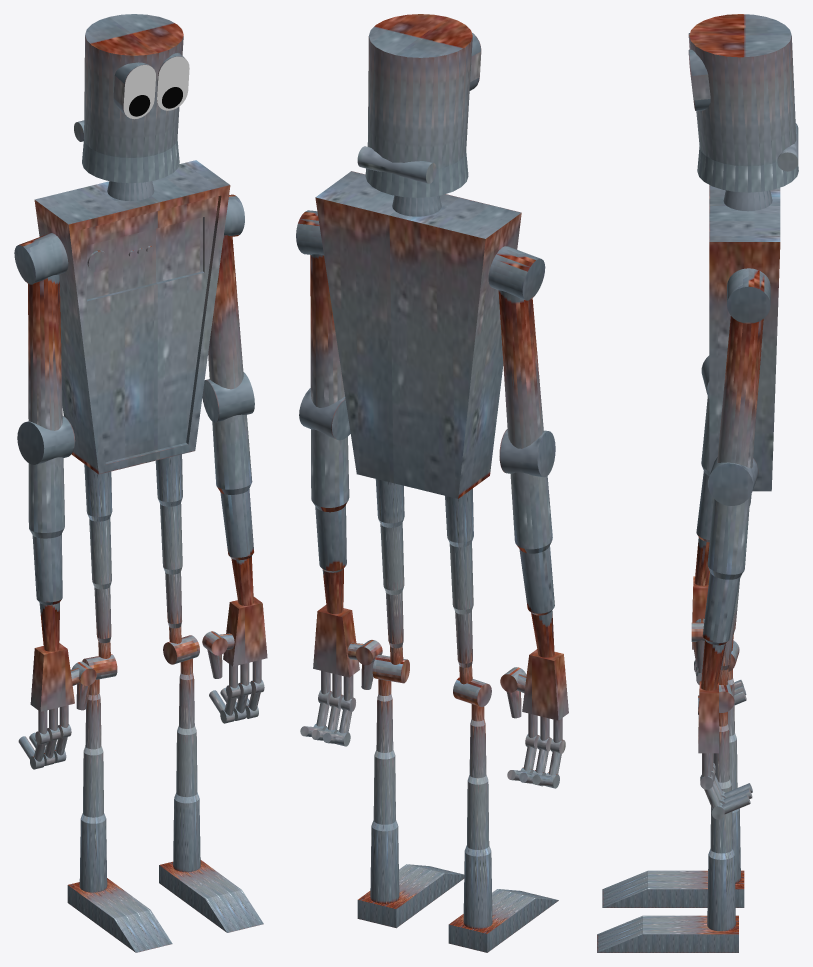
Rendered from Rusted_Robot.dae.
The picture shows the model from 3 angles, left to right: view 1: azimuth 30°, elevation 25°; view 2: azimuth 150°, elevation 25°; view 3: azimuth 270°, elevation 25°; orthographic projection. The views are drawn at different scales.
Parts seen in each view (by area): view 1: Model, Group7, Group4, Group5, Group1, Group2, Group3, Group6, Group8, Group9, Group10, Group11; view 2: Model, Group7, Group5, Group2, Group4, Group1, Group3, Group6, Group8, Group9, Group10, Group11; view 3: Model, Group7, Group4, Group1, Group5, Group11, Group10, Group2, Group6.
Part boxes in pixels (x1,y1,x2,y2): Model: (18, 14, 267, 769); Group7: (34, 160, 230, 474); Group4: (159, 635, 263, 932); Group5: (173, 658, 200, 872); Group1: (67, 654, 172, 952); Group2: (79, 679, 107, 892); Group3: (84, 464, 112, 658); Group6: (155, 454, 182, 643); Group8: (14, 233, 68, 284); Group9: (17, 416, 75, 464); Group10: (202, 372, 254, 422); Group11: (224, 194, 244, 236); Model: (300, 14, 568, 788); Group7: (315, 171, 521, 498); Group5: (370, 679, 399, 903); Group2: (463, 704, 492, 928); Group4: (357, 655, 464, 928); Group1: (448, 677, 558, 952); Group3: (445, 488, 473, 684); Group6: (375, 479, 404, 664); Group8: (488, 246, 545, 300); Group9: (499, 429, 555, 477); Group10: (299, 388, 350, 440); Group11: (296, 210, 323, 255); Model: (688, 14, 798, 819); Group7: (709, 185, 780, 491); Group4: (597, 682, 738, 952); Group1: (602, 640, 744, 907); Group5: (707, 711, 735, 931); Group11: (727, 268, 770, 323); Group10: (708, 457, 758, 505); Group2: (727, 669, 740, 883); Group6: (718, 579, 739, 685).
Size of the model in its own units: 183 by 134 by 649.
Materials: 4 (2 with a texture image).
